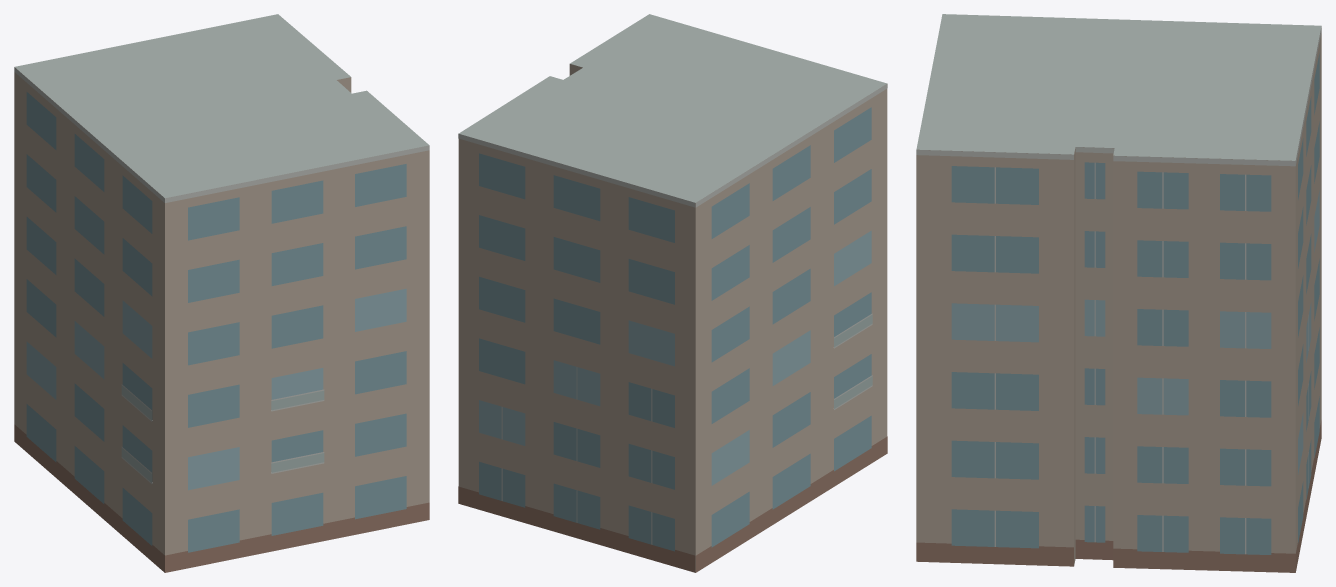
File: survey-upis-32836695.glb
3 renders of one model, left to right at view 1: azimuth 30°, elevation 25°; view 2: azimuth 150°, elevation 25°; view 3: azimuth 270°, elevation 25°, orthographic. The views are drawn at different scales.
Parts seen in each view (by area): view 1: survey-upis-32836695.tmp; view 2: survey-upis-32836695.tmp; view 3: survey-upis-32836695.tmp.
Part boxes in pixels (x1,y1,x2,y2): survey-upis-32836695.tmp: (14, 14, 429, 572); survey-upis-32836695.tmp: (458, 14, 887, 572); survey-upis-32836695.tmp: (916, 14, 1321, 572).
Size of the model in its own units: 14.23 by 18.6 by 16.59.
